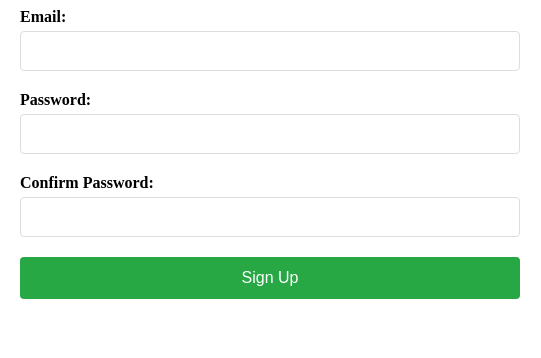
Test: Form Component › Form Validation - Email › should clear email error when user starts typing
The image size is (541, 358).
Click the button with test id "submit-button" at [270, 278], box 20,257 -> 520,299
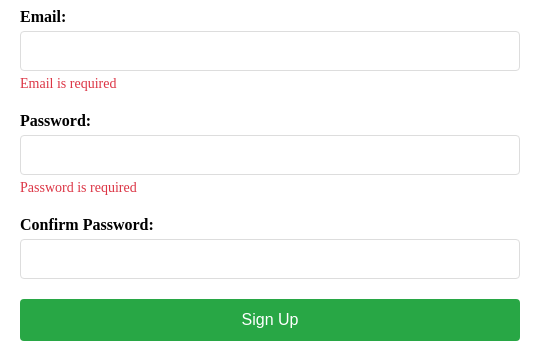
Expected: the text "Email is required" is shown, 20,76 -> 116,91
Type "a" into the field with test id "email-input" at [270, 51], box 20,31 -> 520,71
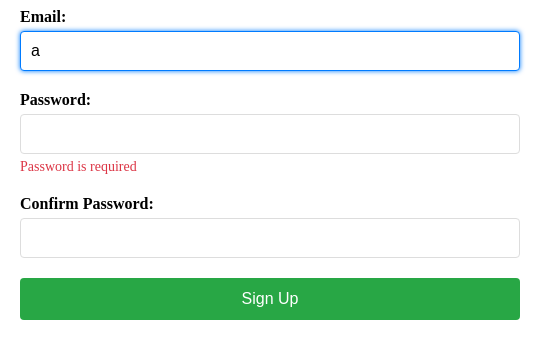
Expected: the text with test id "email-error" is gone
